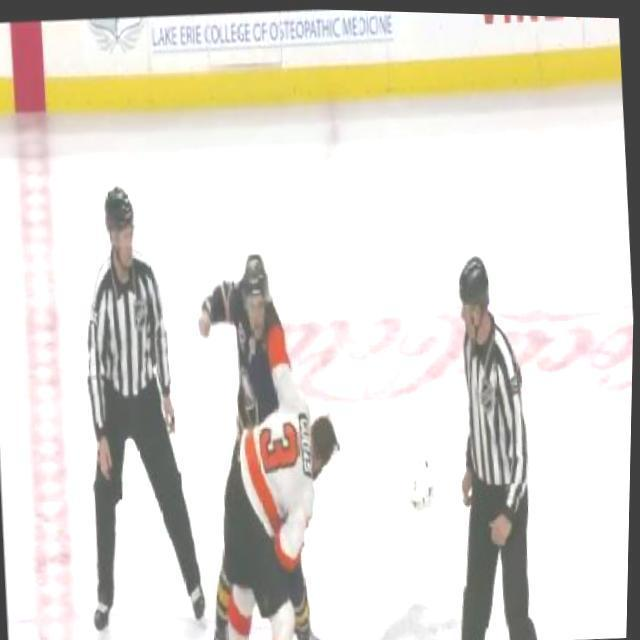fight: (187, 241, 357, 640)
